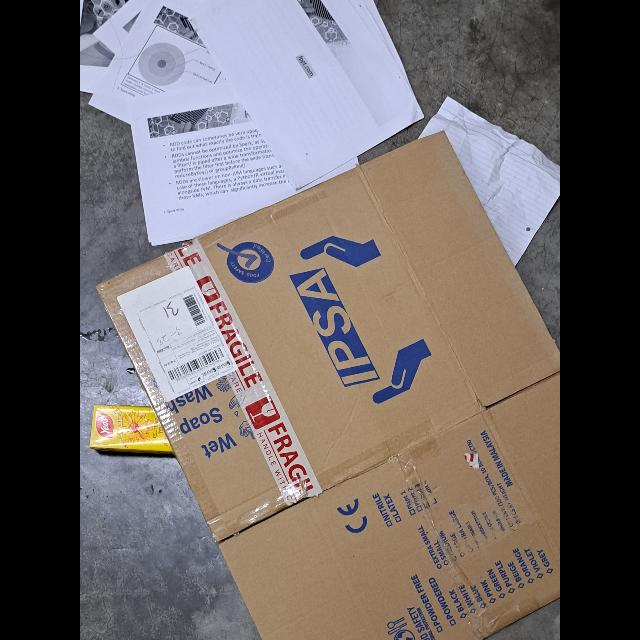caixinha: (90, 405, 174, 457)
papel: (80, 0, 426, 248), (420, 95, 560, 272)
papelão: (92, 130, 560, 640)
